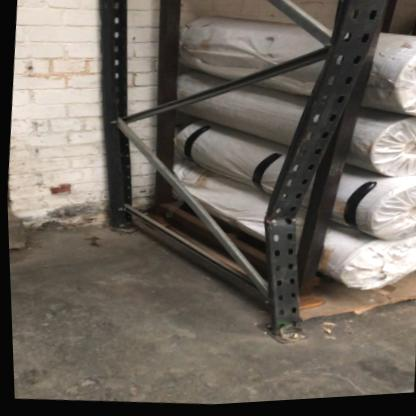vertical_damage: (248, 107, 347, 286)
